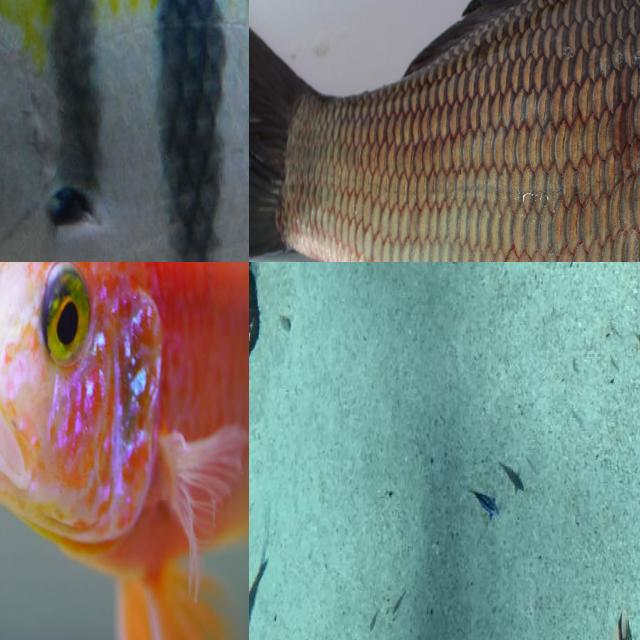fish: (249, 0, 640, 262), (0, 0, 249, 262)
